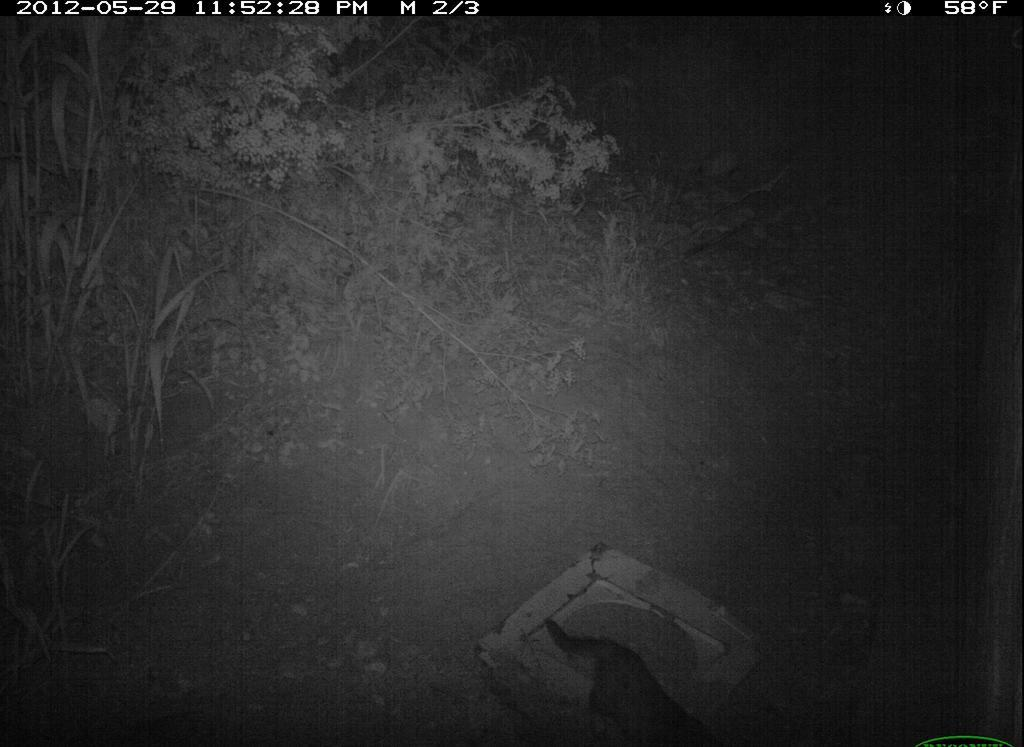cat: (541, 612, 744, 747)
